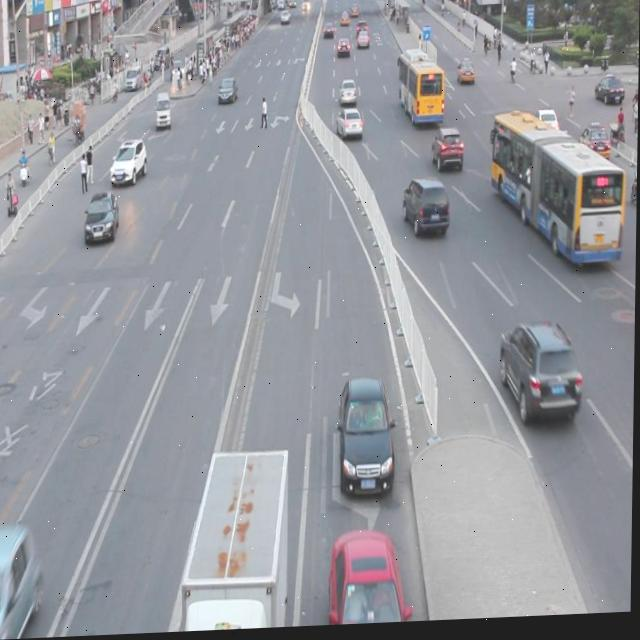bus: (183, 446, 291, 633)
car: (498, 324, 581, 432), (330, 528, 408, 628), (339, 375, 397, 501), (0, 521, 45, 639), (403, 179, 450, 240), (85, 191, 120, 246), (111, 139, 147, 187), (430, 130, 465, 178), (578, 129, 610, 167)
van: (490, 112, 624, 271)
